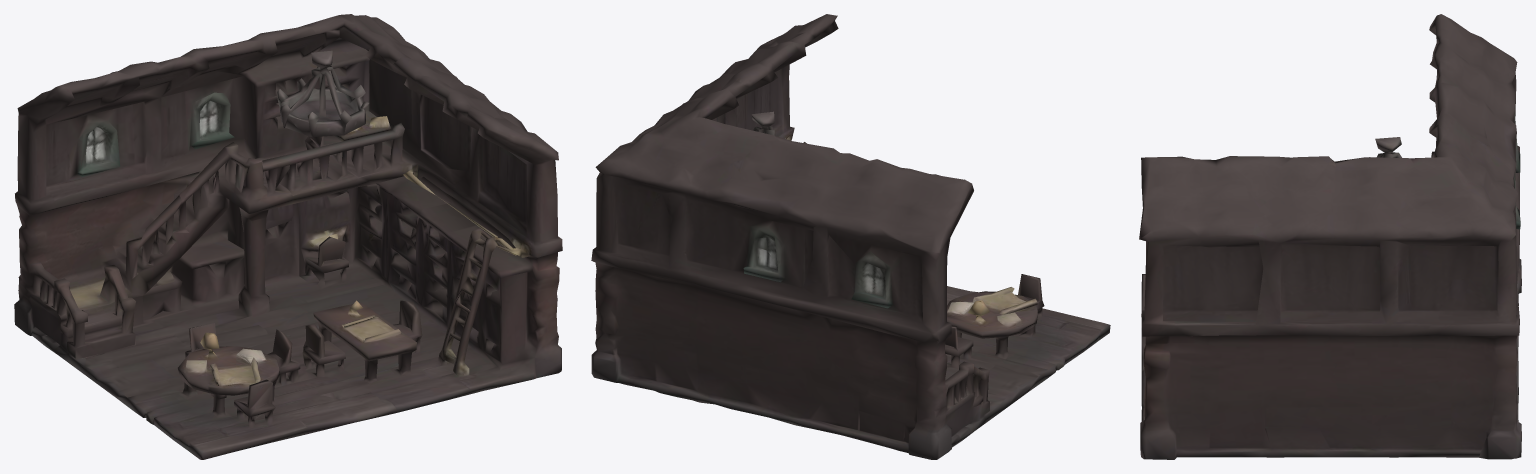
File: library_interior.glb
The picture shows the model from 3 angles, left to right: view 1: azimuth 30°, elevation 25°; view 2: azimuth 150°, elevation 25°; view 3: azimuth 270°, elevation 25°; orthographic projection. The views are drawn at different scales.
Parts seen in each view (by area): view 1: tripo_node_8a7fdcf2-95d9-46e4-9048-1a9674898308; view 2: tripo_node_8a7fdcf2-95d9-46e4-9048-1a9674898308; view 3: tripo_node_8a7fdcf2-95d9-46e4-9048-1a9674898308.
Part boxes in pixels (bbox=[...]): tripo_node_8a7fdcf2-95d9-46e4-9048-1a9674898308: bbox=[14, 14, 562, 459]; tripo_node_8a7fdcf2-95d9-46e4-9048-1a9674898308: bbox=[591, 14, 1110, 459]; tripo_node_8a7fdcf2-95d9-46e4-9048-1a9674898308: bbox=[1139, 14, 1521, 459].
Bounding box in the file's own units: 1 × 0.7005 × 0.8918.
Materials: 1 (1 with a texture image).
